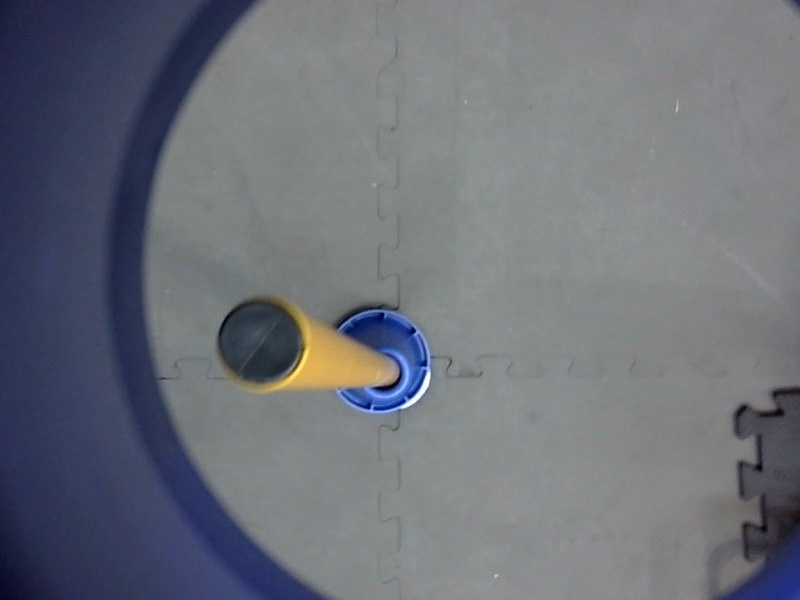tip: (209, 286, 316, 400)
